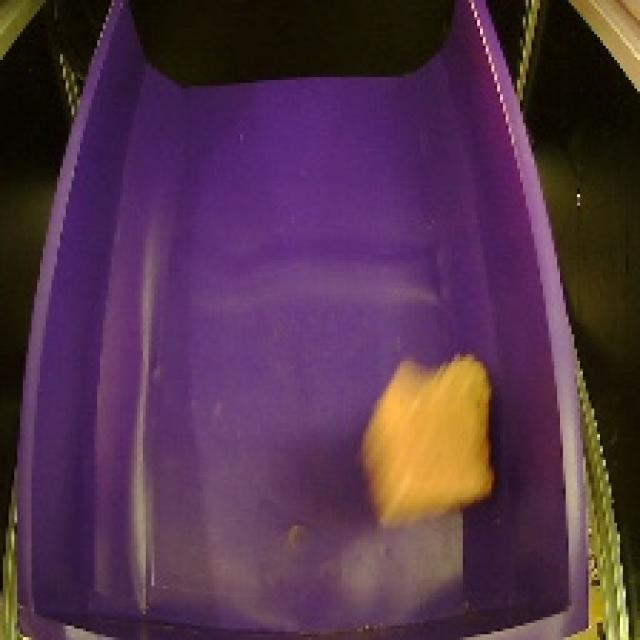brick: (354, 340, 504, 530)
